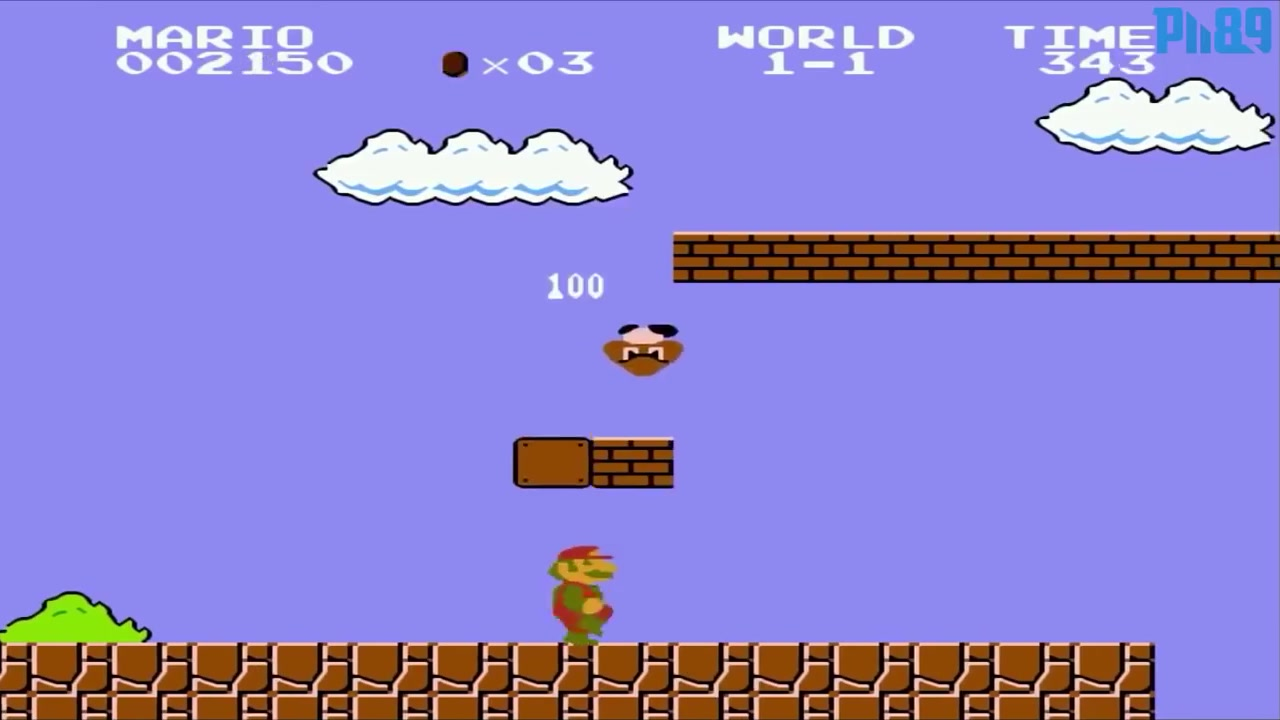mario: (535, 535, 615, 648)
